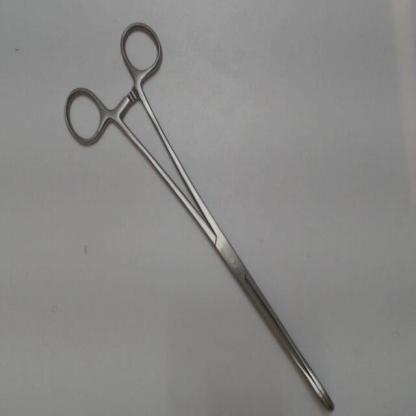Sponge Forceps: (57, 14, 346, 414)
